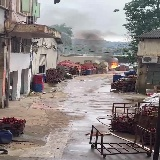fire: (111, 62, 117, 68)
